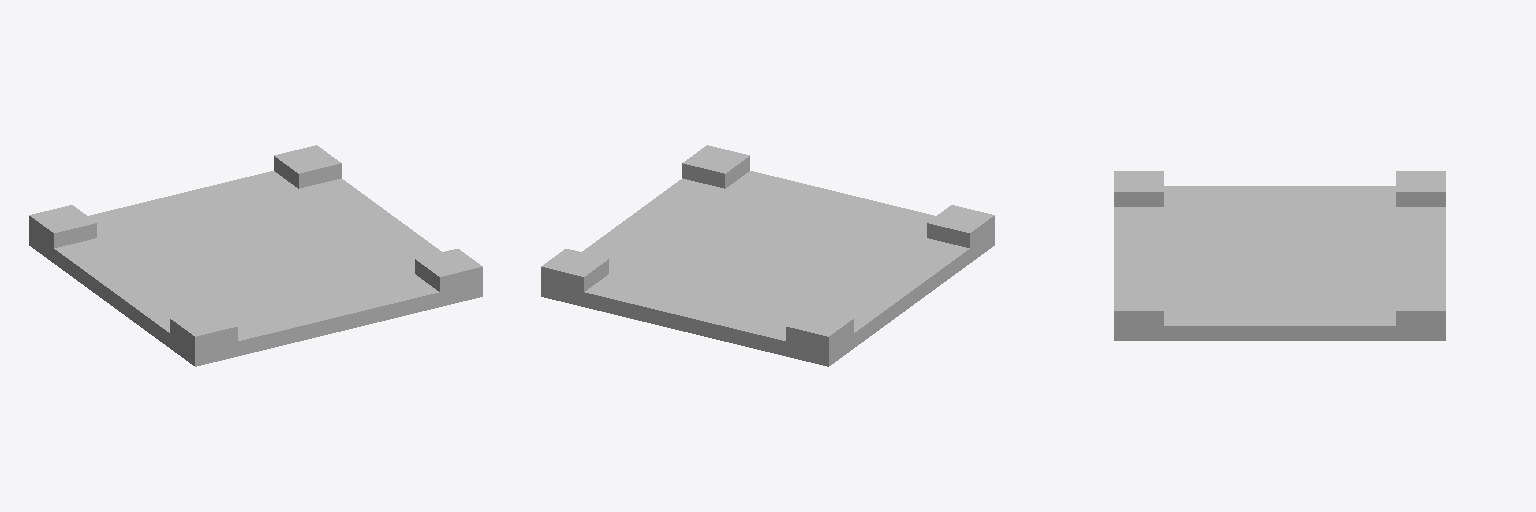
The model's file is Street Croux.obj.
3 renders of one model, left to right at view 1: azimuth 30°, elevation 25°; view 2: azimuth 150°, elevation 25°; view 3: azimuth 270°, elevation 25°, orthographic.
Visible parts, largest first — view 1: object 1; view 2: object 1; view 3: object 1.
Boxes of the visible parts, x1=… form: object 1: x1=29, y1=145, x2=482, y2=366; object 1: x1=541, y1=145, x2=994, y2=366; object 1: x1=1114, y1=171, x2=1445, y2=340.
Bounding box in the file's own units: 4 × 0.4 × 4.